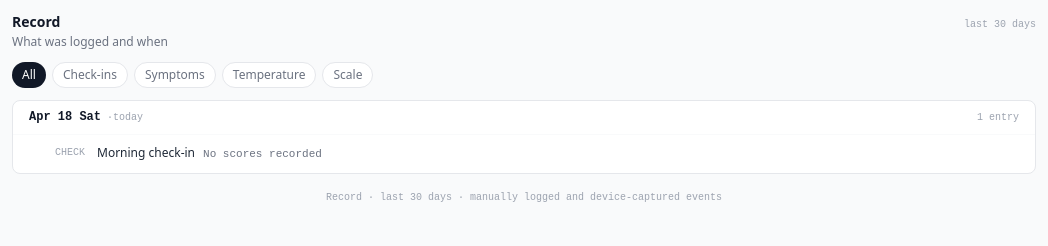
Test: Record UI › empty state shown when filter removes all entries
Click the button with test id "record-chip-temperature" at (269,75), box [222,62,316,88]
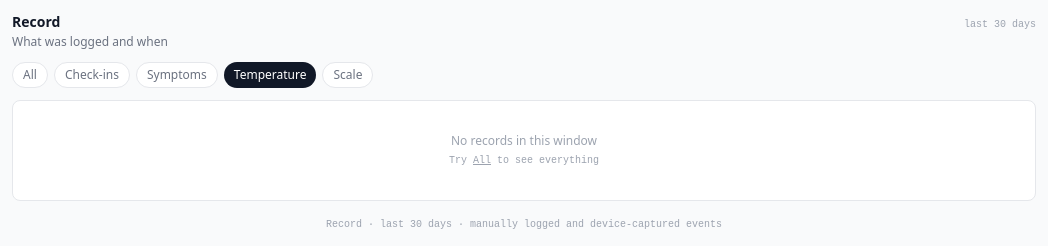
Result: the element with test id "record-empty" is shown at [12,100,1036,201]
Result: the element with test id "record-day-group" is gone
